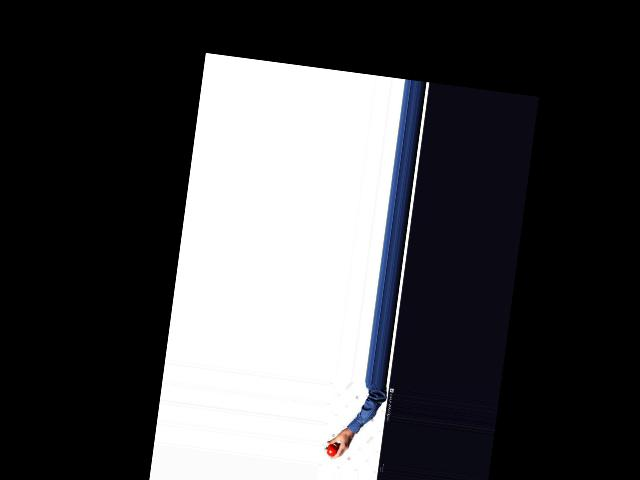tomato: (326, 444, 338, 457)
